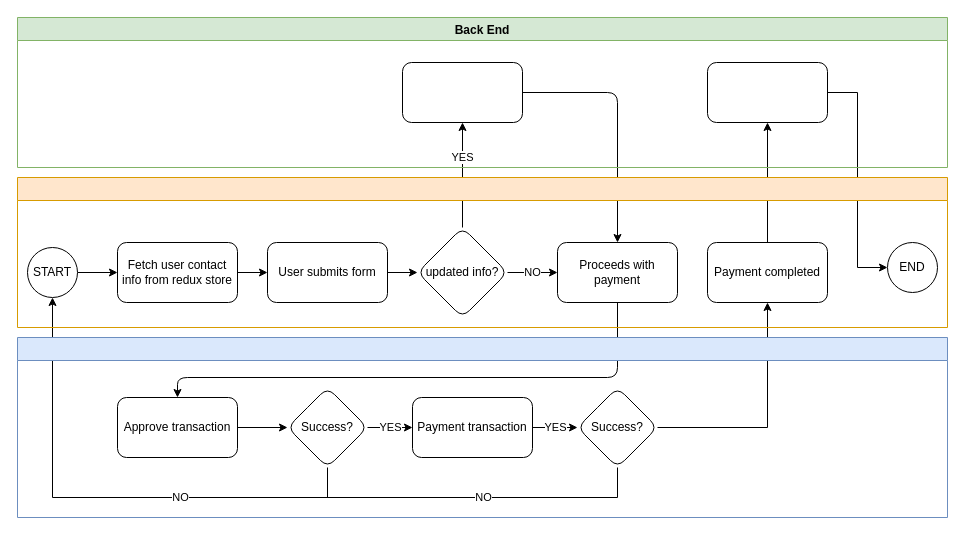
This 965x535 diagram has some shape labels left out. Each missing label, with the centre of its shape:
"Front End" belongs at (482,252).
"Smart Contracts" belongs at (482,427).
"Update contact info" belongs at (462,92).
"Update reservation status and save transction hash" belongs at (767,92).
